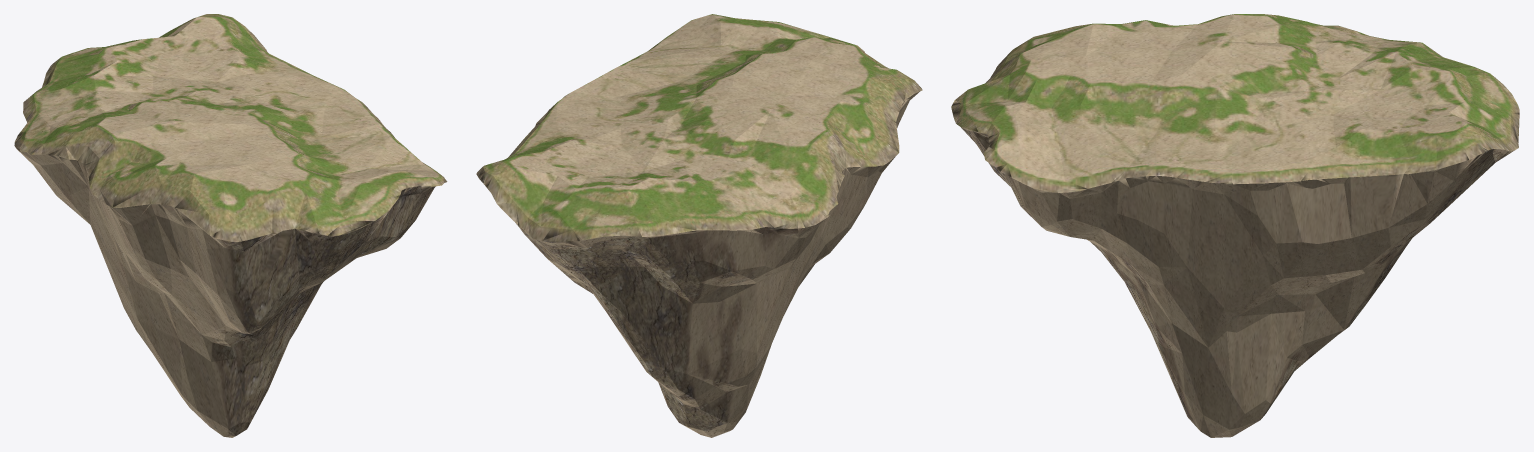
Rendered from island_na_3_1_02.fbx.
3 renders of one model, left to right at view 1: azimuth 30°, elevation 25°; view 2: azimuth 150°, elevation 25°; view 3: azimuth 270°, elevation 25°, orthographic. The views are drawn at different scales.
Parts seen in each view (by area): view 1: island_3_1; view 2: island_3_1; view 3: island_3_1.
Boxes of the visible parts, x1=… form: island_3_1: x1=14, y1=14, x2=447, y2=437; island_3_1: x1=476, y1=14, x2=922, y2=437; island_3_1: x1=951, y1=14, x2=1519, y2=437.
Size of the model in its own units: 5.84 by 6.09 by 8.58.
Materials: 1 (1 with a texture image).
